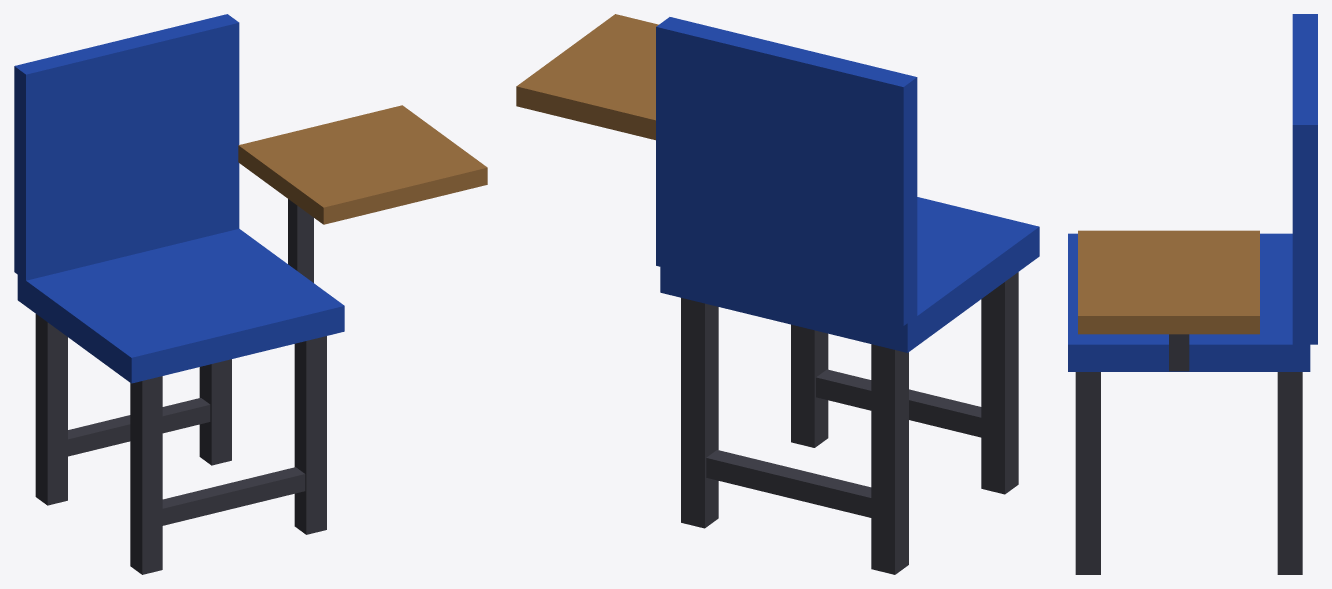
File: carteira.obj
The picture shows the model from 3 angles, left to right: view 1: azimuth 30°, elevation 25°; view 2: azimuth 150°, elevation 25°; view 3: azimuth 270°, elevation 25°; orthographic projection. The views are drawn at different scales.
Parts seen in each view (by area): view 1: carteira; view 2: carteira; view 3: carteira.
Part boxes in pixels (bbox=[...]): carteira: bbox=[14, 14, 487, 574]; carteira: bbox=[516, 14, 1039, 574]; carteira: bbox=[1068, 14, 1317, 574].
Bounding box in the file's own units: 0.88 × 1 × 0.495.
